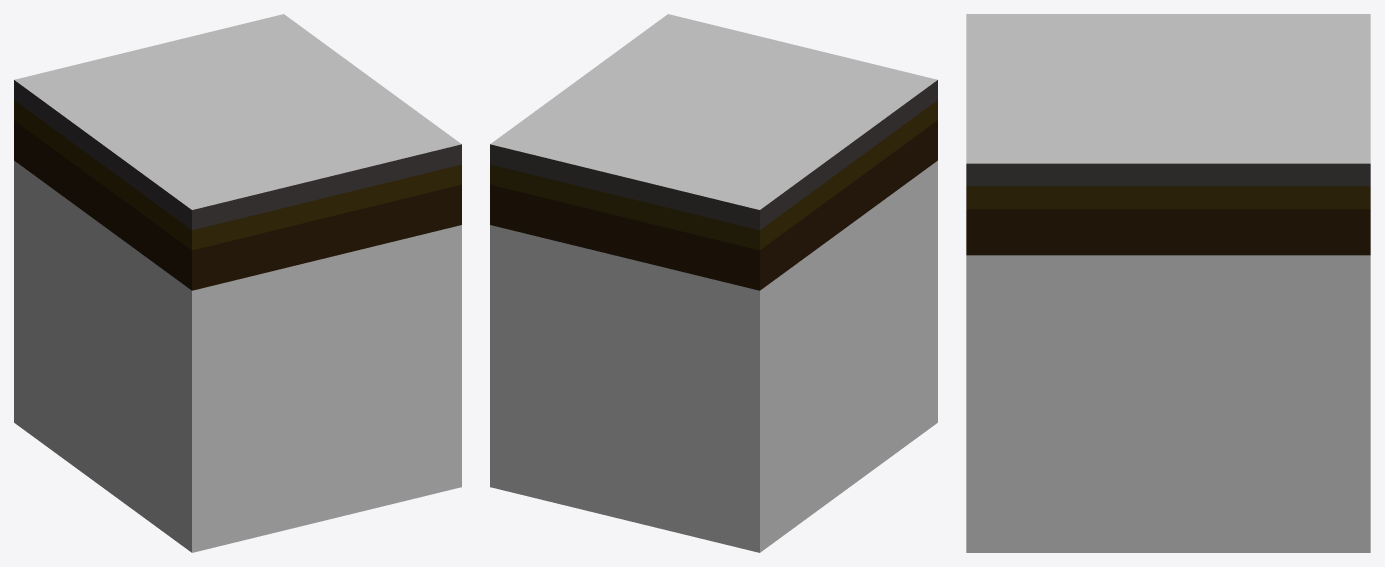
File: model_loc_1637_h.obj
The picture shows the model from 3 angles, left to right: view 1: azimuth 30°, elevation 25°; view 2: azimuth 150°, elevation 25°; view 3: azimuth 270°, elevation 25°; orthographic projection. The views are drawn at different scales.
Parts seen in each view (by area): view 1: 592; view 2: 592; view 3: 592.
Boxes of the visible parts, box(x1,y1,x2,y2) form: 592: box(14, 14, 461, 552); 592: box(490, 14, 937, 552); 592: box(966, 14, 1370, 552).
Bounding box in the file's own units: 112 × 136 × 128.
